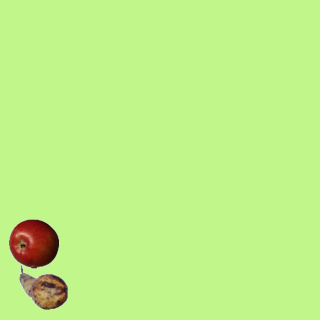Apple Braeburn: (8, 218, 58, 268)
Pear Abate: (18, 262, 68, 312)
